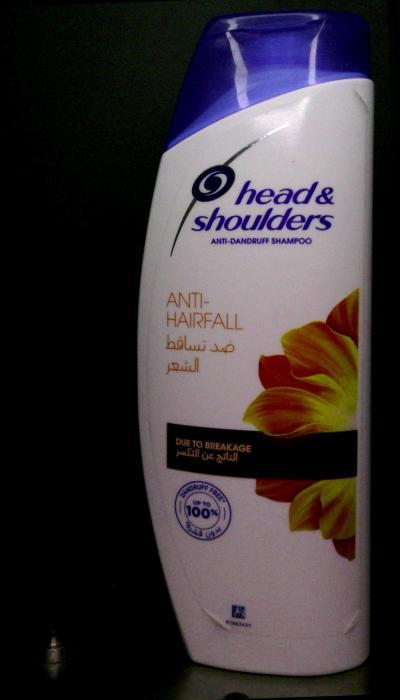adhesion_marg: (324, 594, 373, 645), (191, 600, 236, 636), (346, 87, 376, 131)
